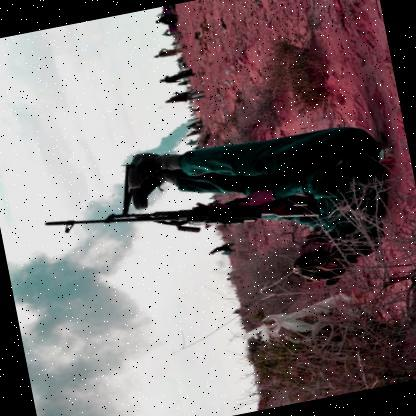rifle: (47, 178, 321, 267)
